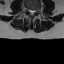CCS_normal: (31, 7, 32, 18)
LFS_normal: (35, 6, 37, 14)
LLS_normal: (32, 8, 35, 16)
RFS_normal: (27, 6, 29, 14)
RLS_normal: (29, 7, 31, 16)
